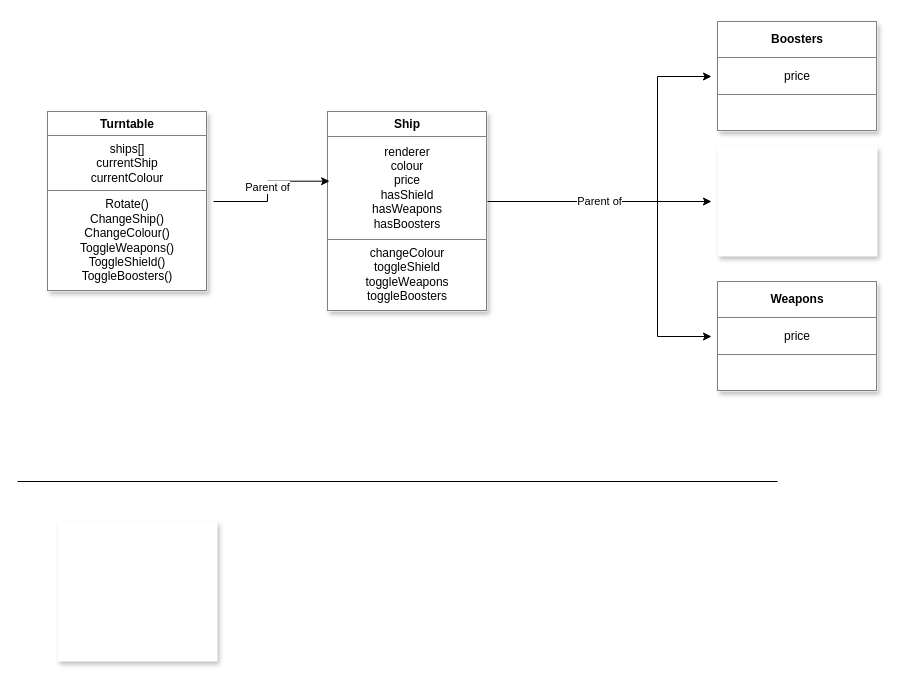
Image size: 901x685. Some labels were removed from this diagram. Each missing label, with the centre of its shape:
"Shield price" goes at pixel 798 202.
"UI totalPrice catalogue UpdateDisplay ToggleCatalogue ChangeShip" goes at pixel 138 592.
